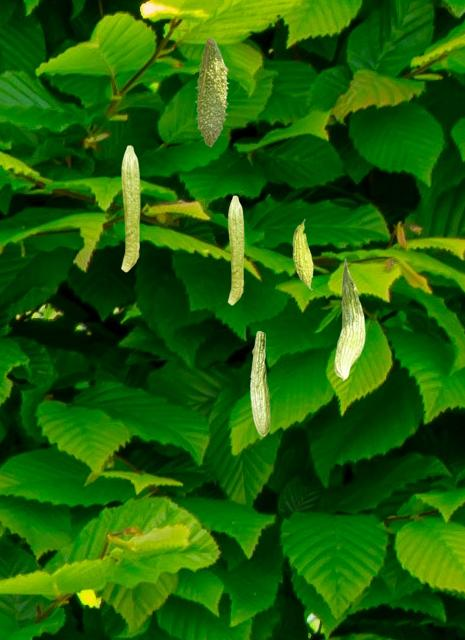ampalaya: (194, 37, 229, 147), (334, 257, 365, 381), (120, 145, 140, 272), (249, 330, 271, 436), (227, 195, 244, 305), (292, 218, 313, 290)
